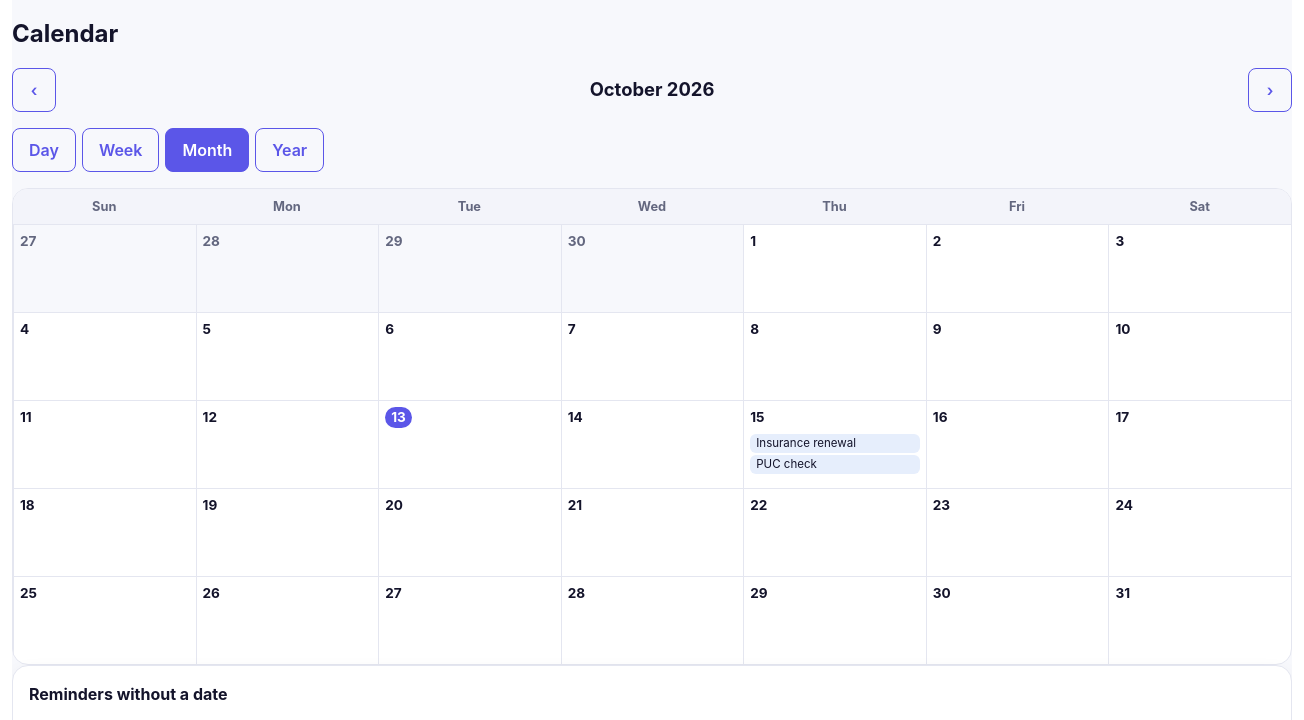
Scenario: Calendar month view (Base design) › moves to the next and previous month
Click the button named "Next month": (1270, 90) [1248, 68, 1292, 112]
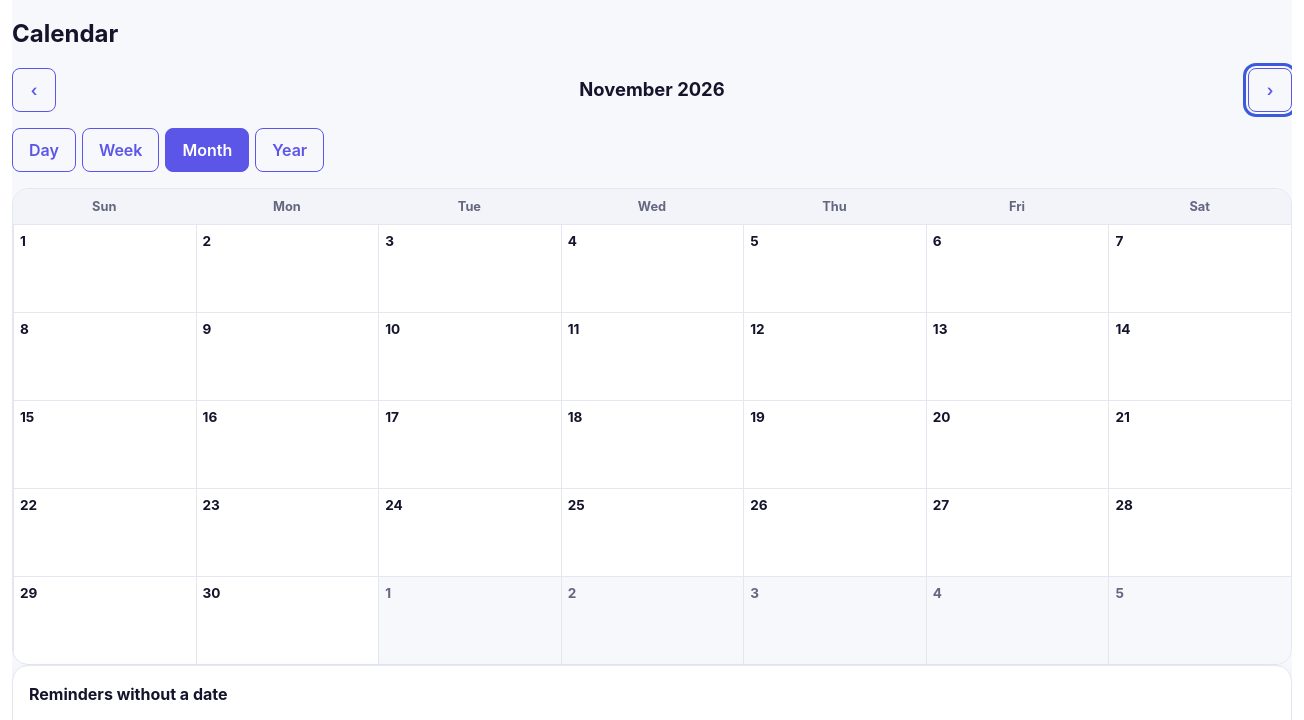
Now the heading "November 2026" is shown, box [579, 76, 725, 104]
Click the button named "Previous month": (34, 90) [12, 68, 56, 112]
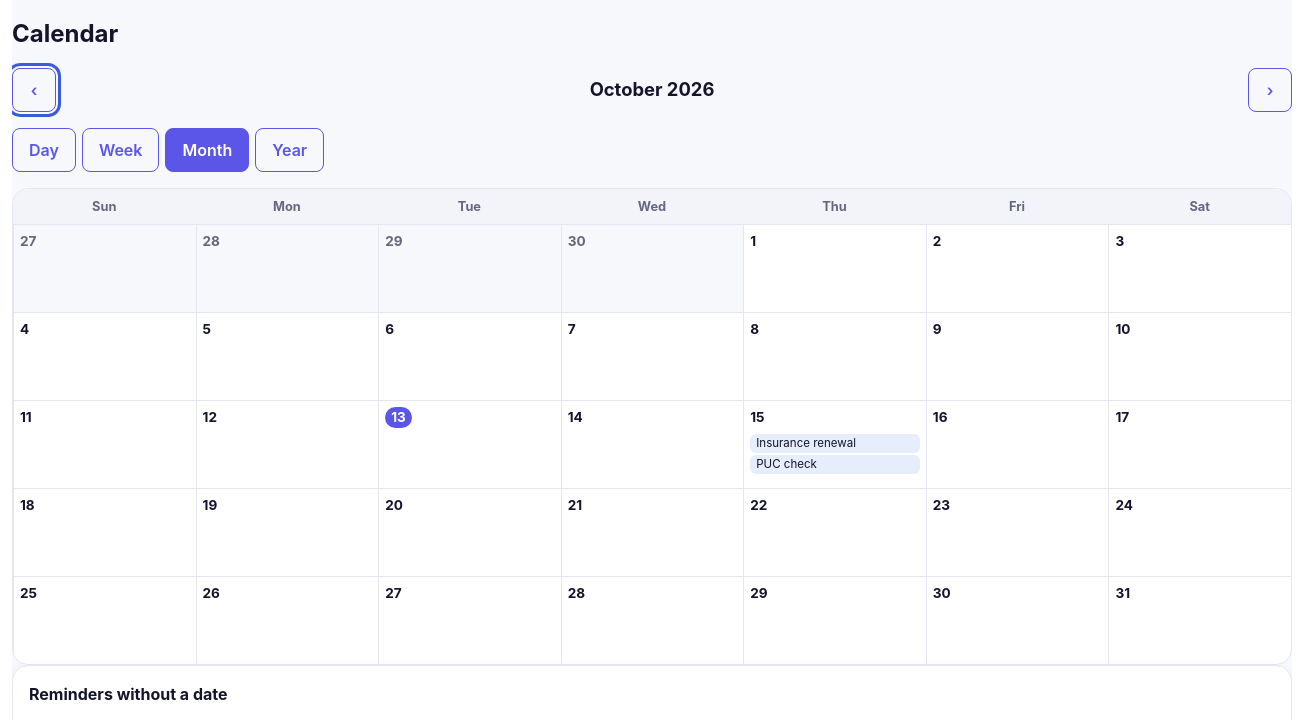
Click the button named "Previous month": (34, 90) [12, 68, 56, 112]
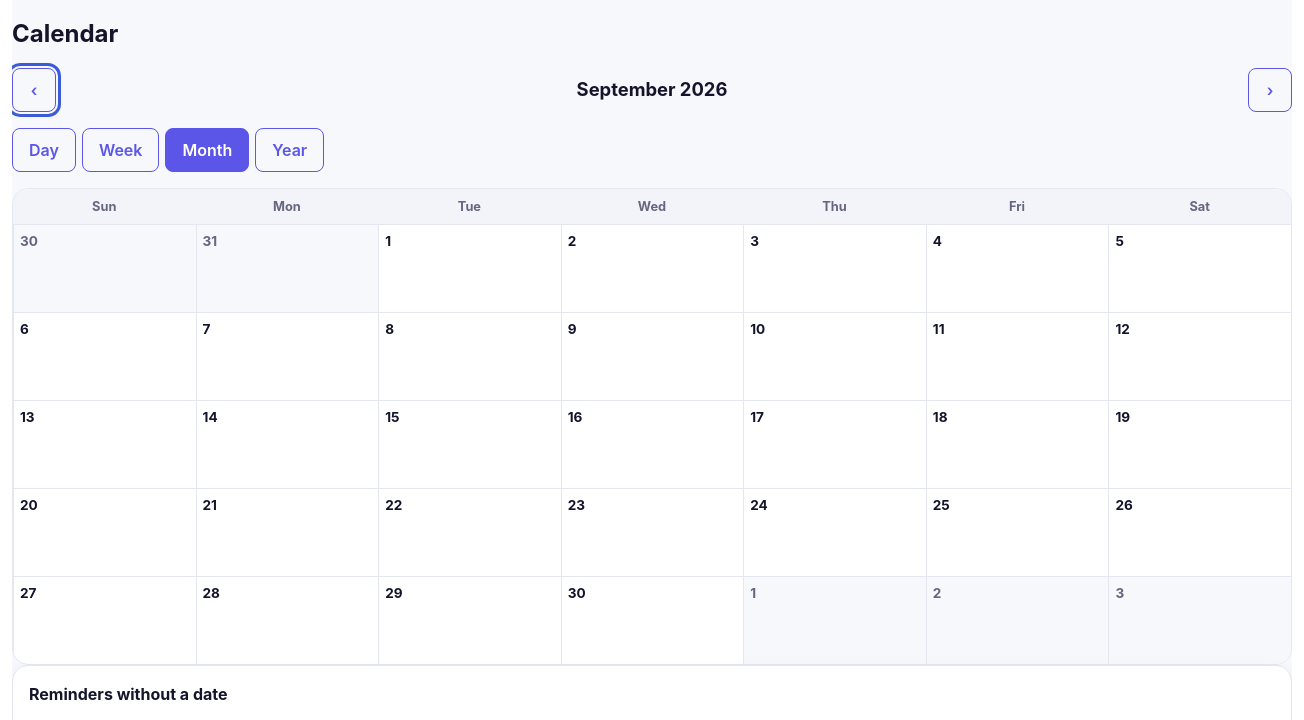
Now the heading "September 2026" is shown, box [577, 76, 727, 104]
